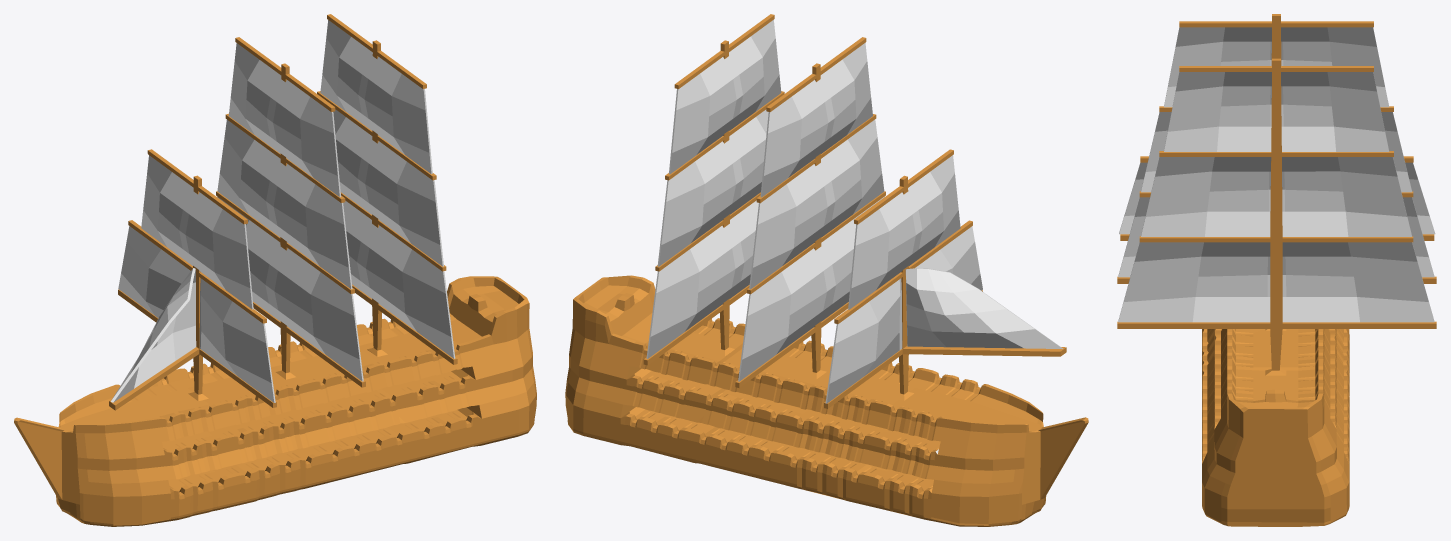
File: galleon.glb
The picture shows the model from 3 angles, left to right: view 1: azimuth 30°, elevation 25°; view 2: azimuth 150°, elevation 25°; view 3: azimuth 270°, elevation 25°; orthographic projection.
Parts seen in each view (by area): view 1: Cube; view 2: Cube; view 3: Cube.
Part boxes in pixels (x1,y1,x2,y2): Cube: (14, 14, 536, 526); Cube: (565, 14, 1088, 526); Cube: (1117, 14, 1436, 526).
Bounding box in the file's own units: 47.1 × 36.1 × 25.7.
